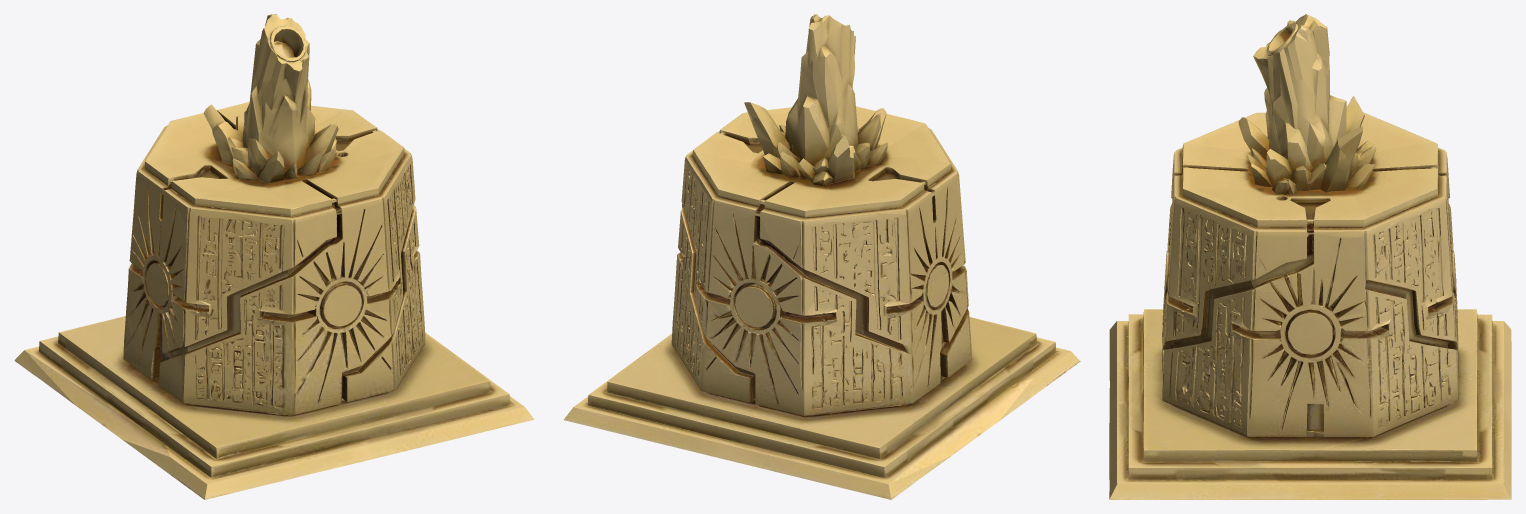
The model's file is et_altar.glb.
3 renders of one model, left to right at view 1: azimuth 30°, elevation 25°; view 2: azimuth 150°, elevation 25°; view 3: azimuth 270°, elevation 25°, orthographic. The views are drawn at different scales.
Size of the model in its own units: 1.74 by 1.9 by 1.74.
Materials: 1 (1 with a texture image).
